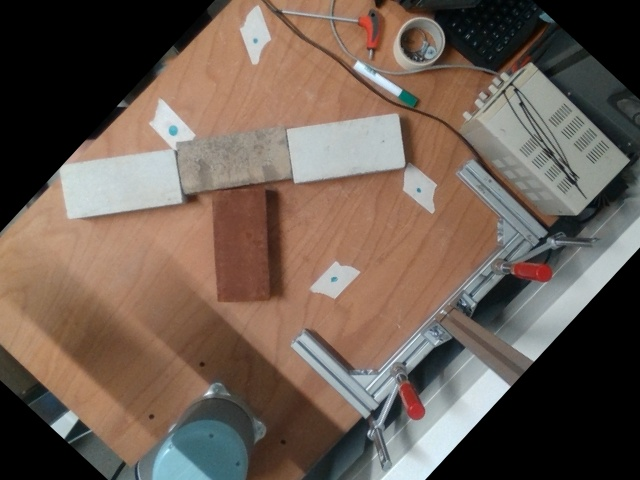brick: (61, 148, 182, 218), (286, 113, 402, 183), (177, 126, 288, 195), (215, 188, 270, 299)
